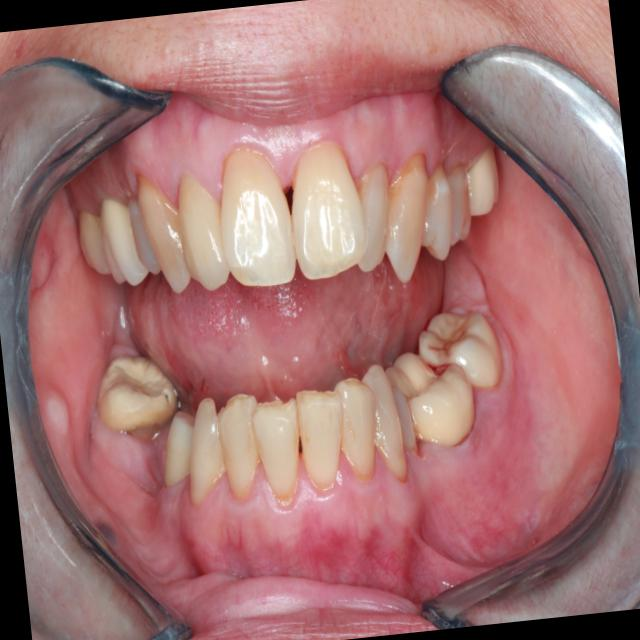tooth: (208, 137, 303, 297), (278, 122, 371, 281), (385, 328, 484, 455), (369, 135, 443, 291), (166, 159, 241, 307), (243, 382, 318, 524), (87, 332, 186, 437), (410, 298, 509, 402), (131, 156, 198, 300), (289, 367, 357, 506), (209, 387, 272, 515), (358, 351, 414, 488), (342, 155, 403, 280), (175, 388, 232, 509), (404, 150, 461, 270), (331, 365, 387, 486), (90, 189, 154, 292), (118, 186, 169, 286), (150, 404, 206, 494), (458, 133, 506, 225), (383, 369, 425, 471), (70, 199, 120, 283), (439, 158, 480, 254)
